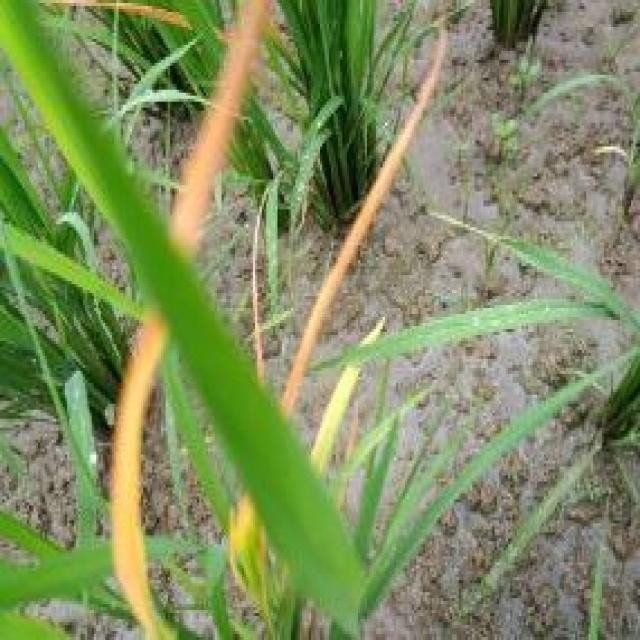Tungro: (271, 2, 457, 403), (102, 307, 185, 640)
